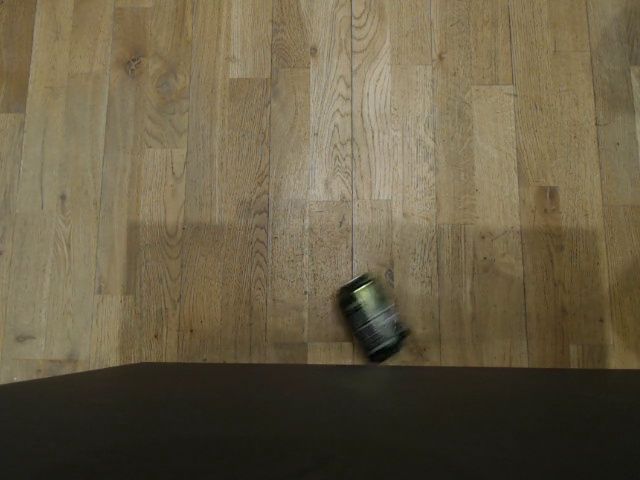beer: (328, 265, 422, 365)
